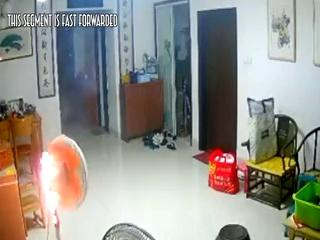Fire: (36, 151, 61, 219)
